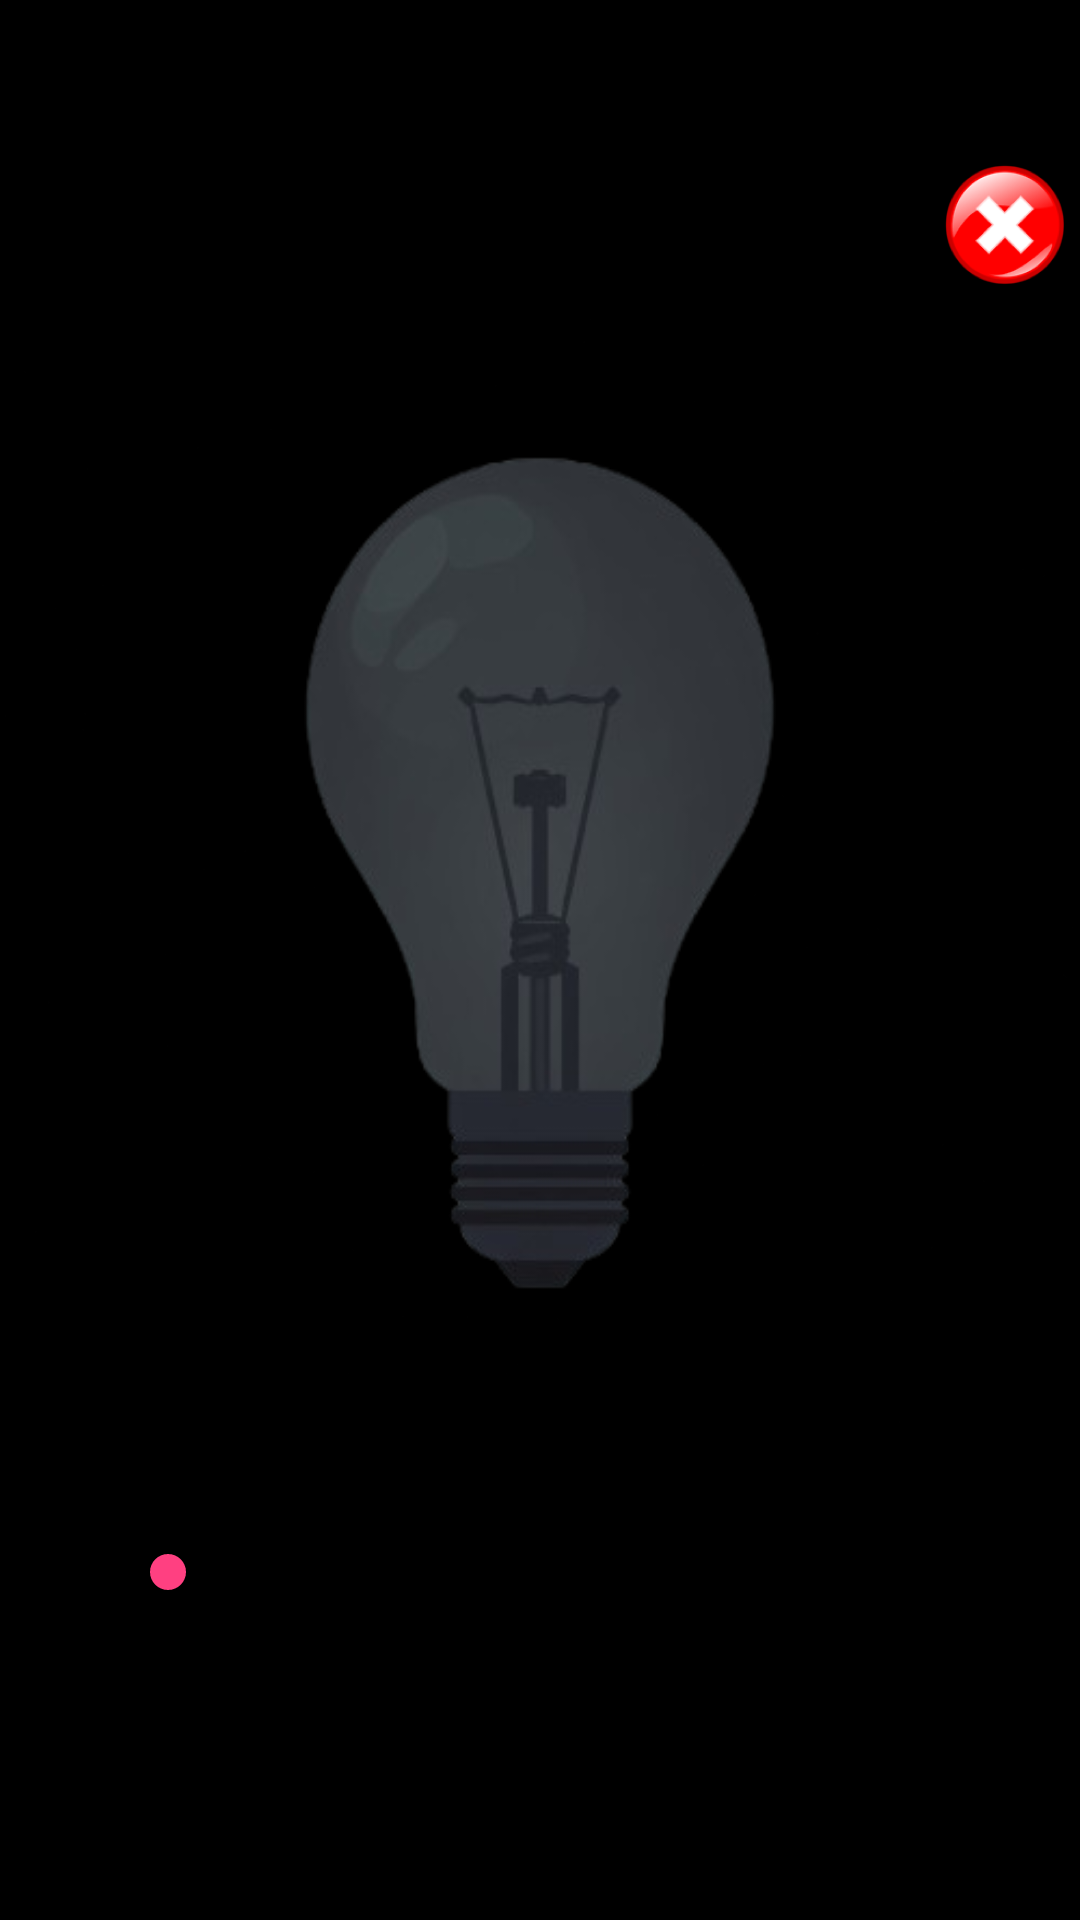

Icons on this 1080*1920 Android screen, each with its box as Rect(x1, y1, x2, y2):
close: Rect(945, 165, 1064, 284)
